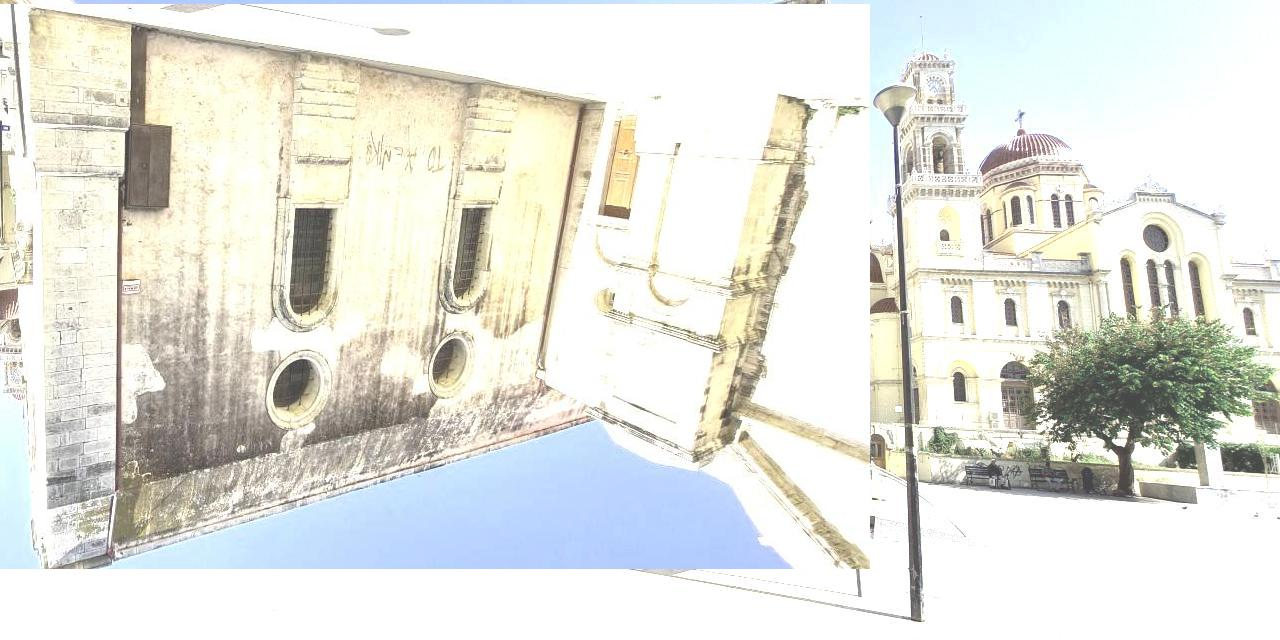Agia Aikaterini: (1, 5, 871, 570)
